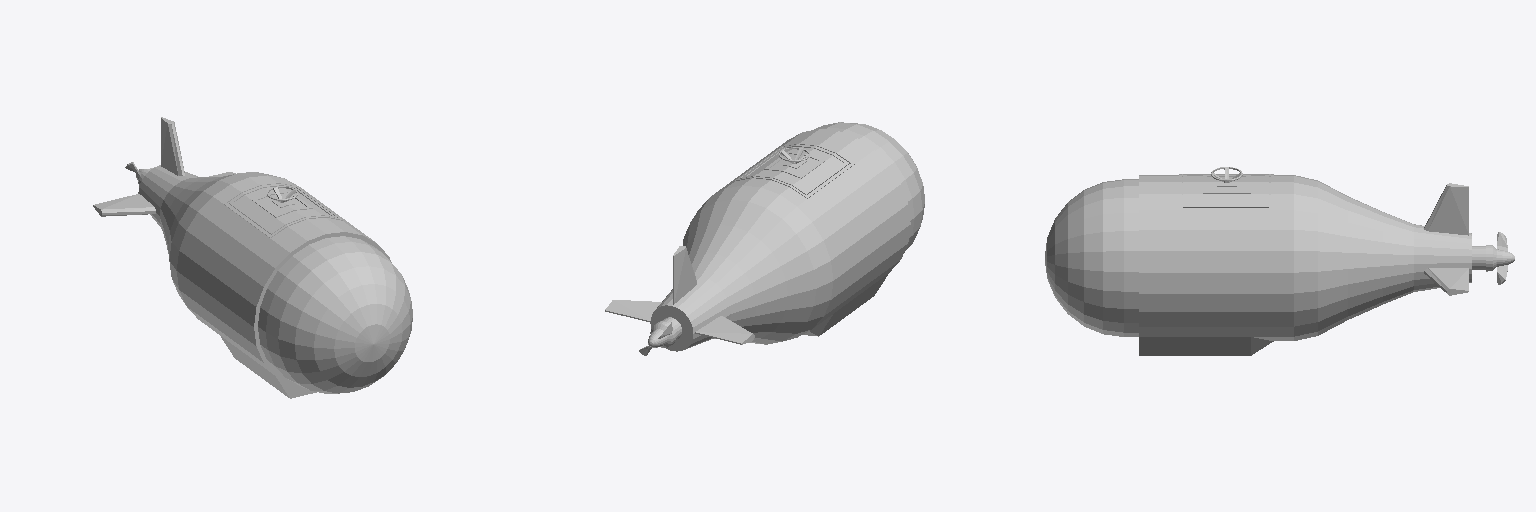
Rendered from submarine.obj.
The picture shows the model from 3 angles: view 1: azimuth 30°, elevation 25°; view 2: azimuth 150°, elevation 25°; view 3: azimuth 270°, elevation 25°; orthographic projection.
Parts seen in each view (by area): view 1: body_Untitled.003; view 2: body_Untitled.003, Helice_y_Escotilla_Untitled.004; view 3: body_Untitled.003, Helice_y_Escotilla_Untitled.004.
Boxes of the visible parts, x1=… form: body_Untitled.003: x1=93, y1=117, x2=412, y2=398; body_Untitled.003: x1=605, y1=122, x2=924, y2=351; Helice_y_Escotilla_Untitled.004: x1=639, y1=147, x2=809, y2=355; body_Untitled.003: x1=1045, y1=174, x2=1485, y2=355; Helice_y_Escotilla_Untitled.004: x1=1211, y1=167, x2=1514, y2=284.
Bounding box in the file's own units: 2.11 × 2.3 × 5.95.